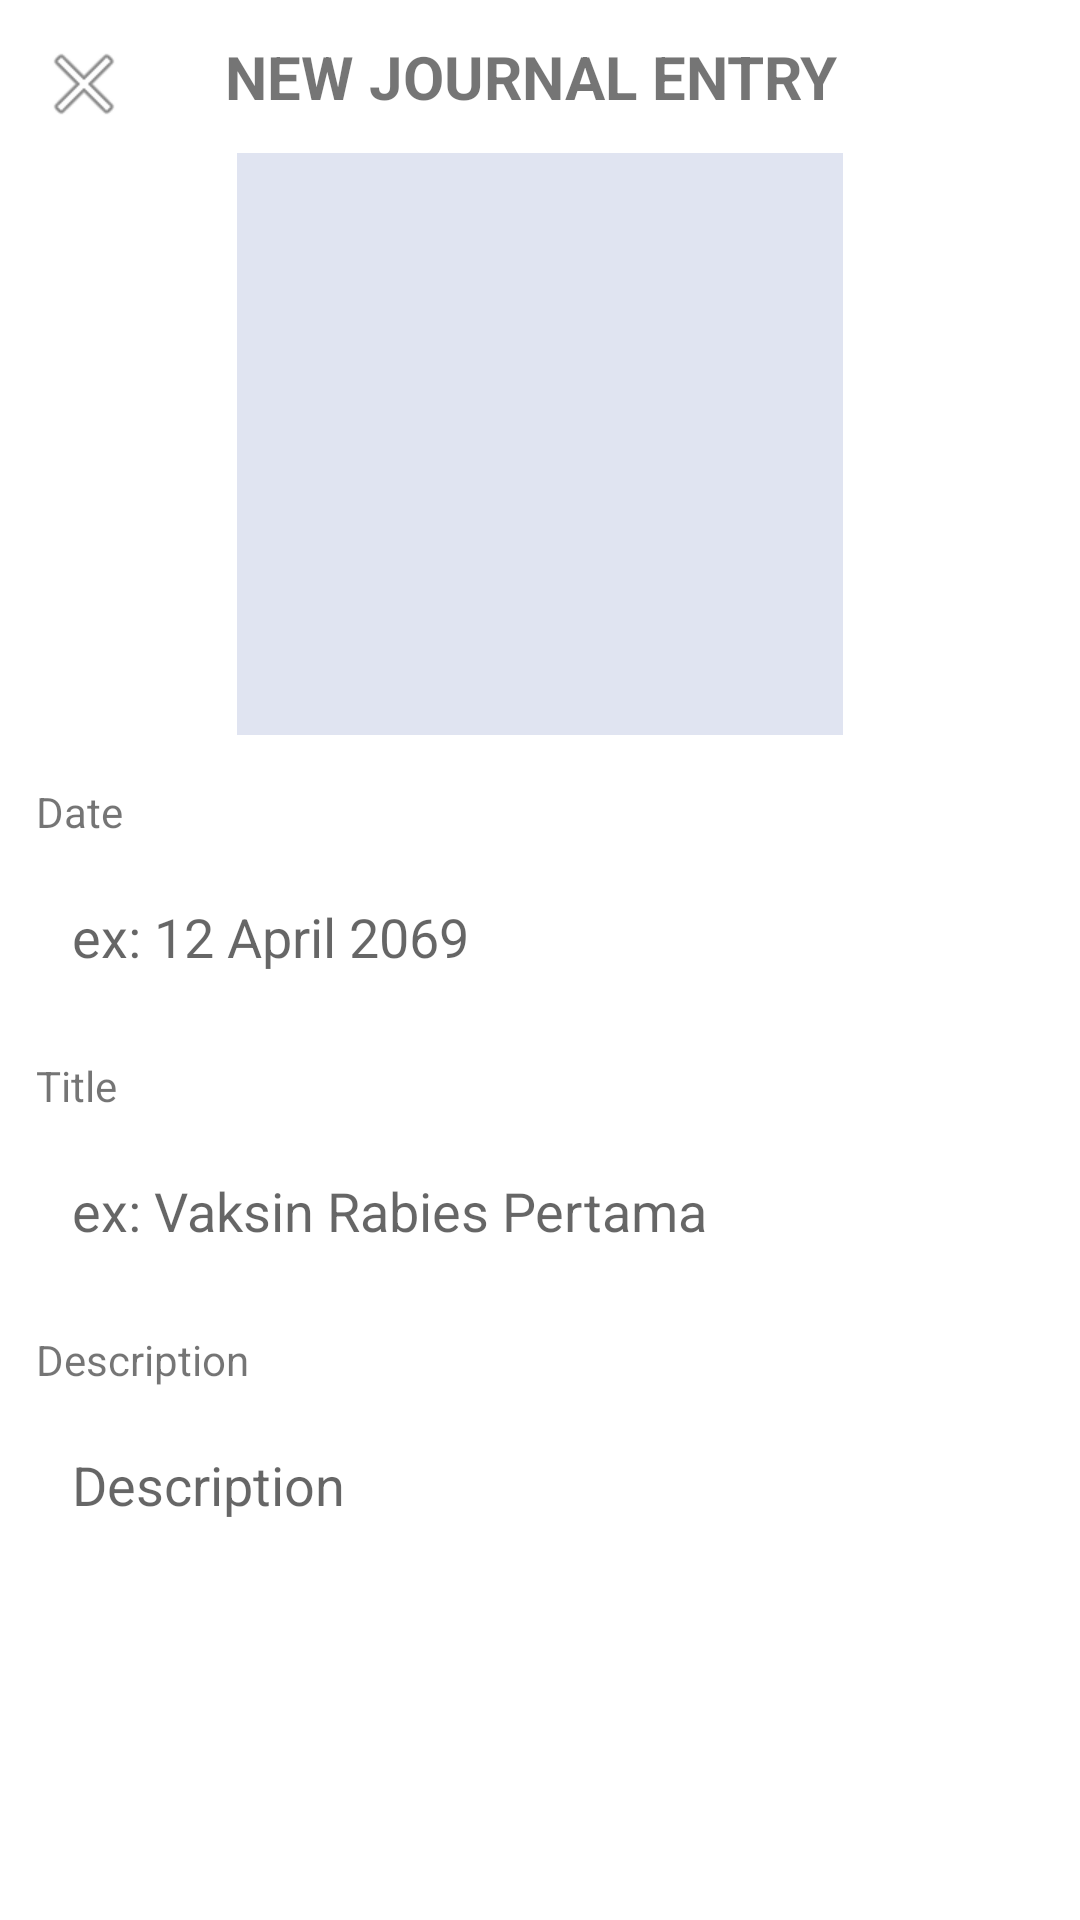

Named icons in this screenshot (1080 x 1920) and their bounding boxes, detection(x1, y1, x2, y2):
close clear cancel: detection(54, 54, 114, 114)
